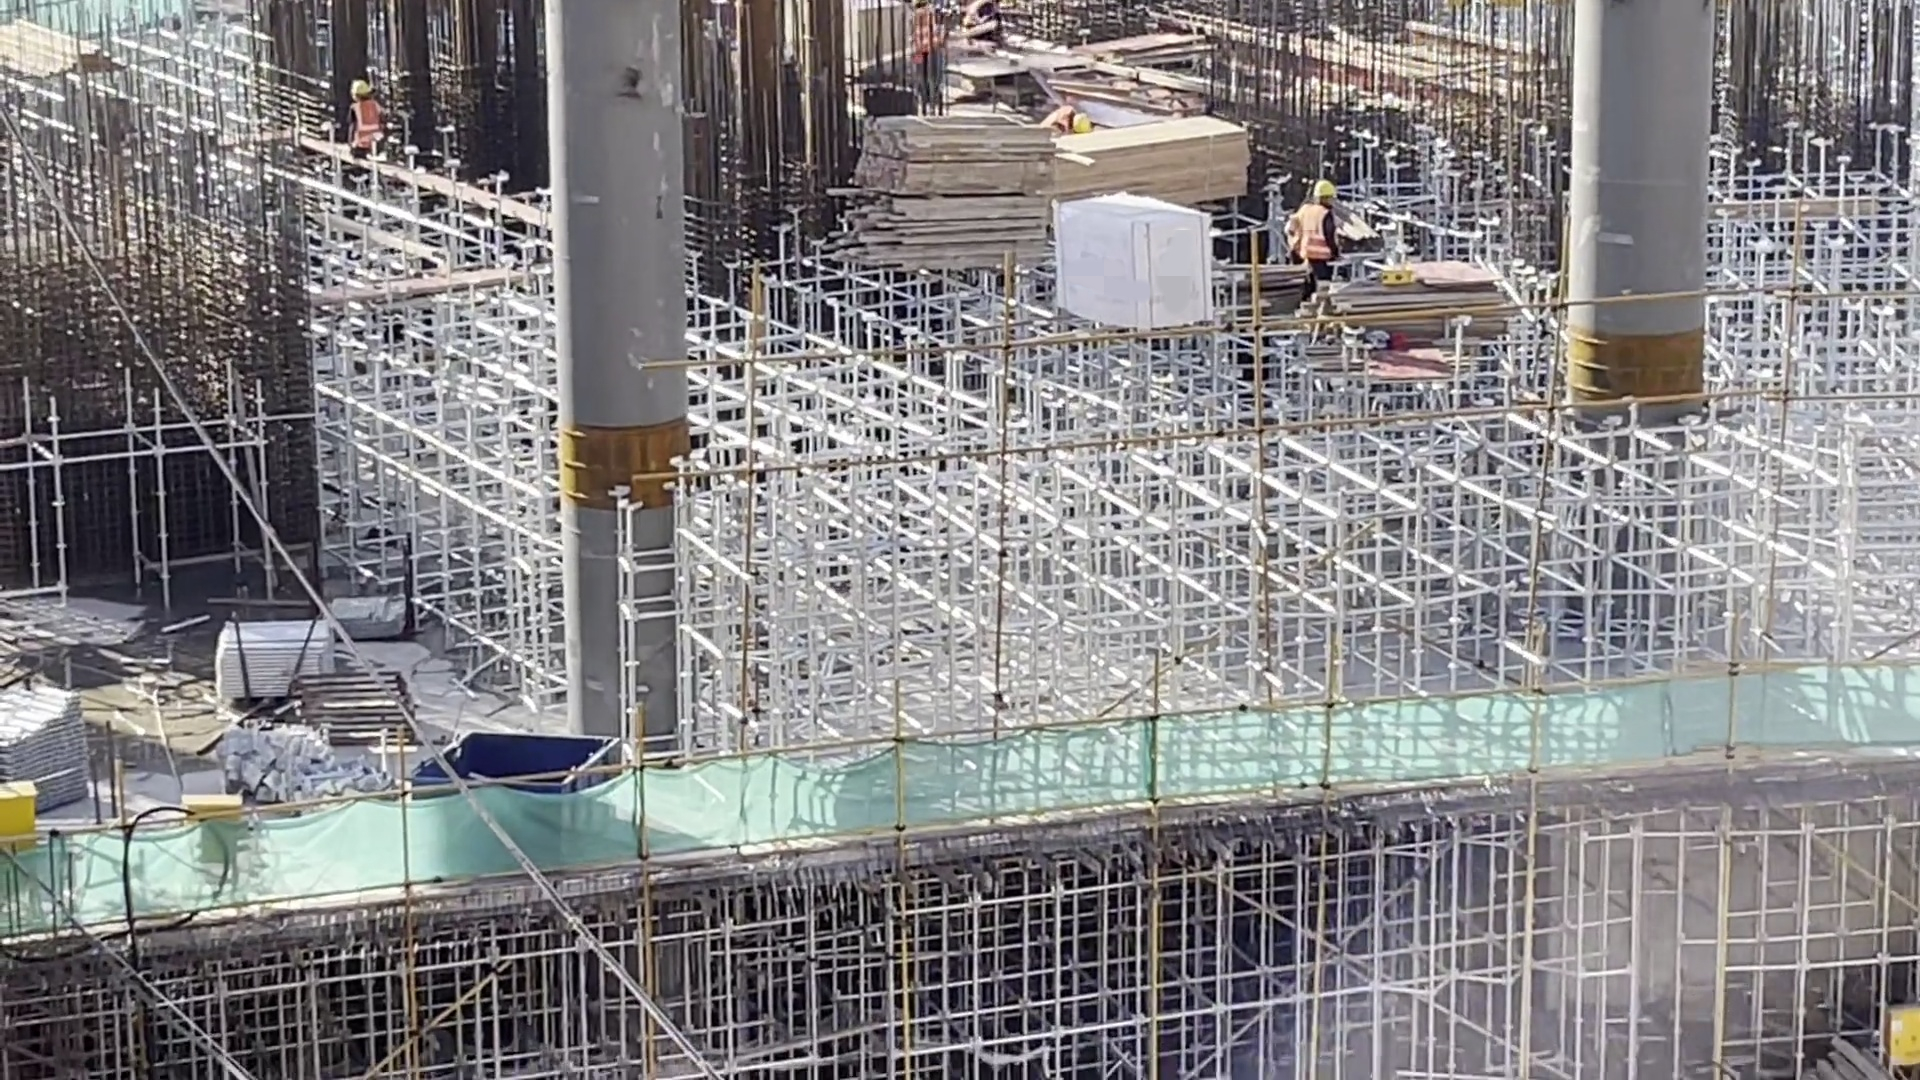board: (1359, 242, 1499, 347), (860, 1, 918, 56)
ebox: (1, 788, 68, 891), (194, 799, 254, 871), (1881, 991, 1920, 1049)
helmet: (1313, 179, 1346, 200), (1079, 109, 1097, 136), (349, 79, 373, 93)
hopper: (406, 726, 654, 836)
person: (1299, 186, 1351, 290), (910, 1, 949, 116), (344, 83, 384, 170), (1046, 96, 1089, 150), (963, 8, 1001, 43)
scaffold: (14, 667, 108, 799), (189, 622, 371, 677)
vest: (908, 12, 941, 67), (353, 101, 388, 147), (1303, 217, 1329, 272), (1038, 99, 1073, 137), (970, 1, 1002, 42)
wood: (838, 127, 1026, 246), (1056, 119, 1261, 192), (14, 14, 126, 74)
